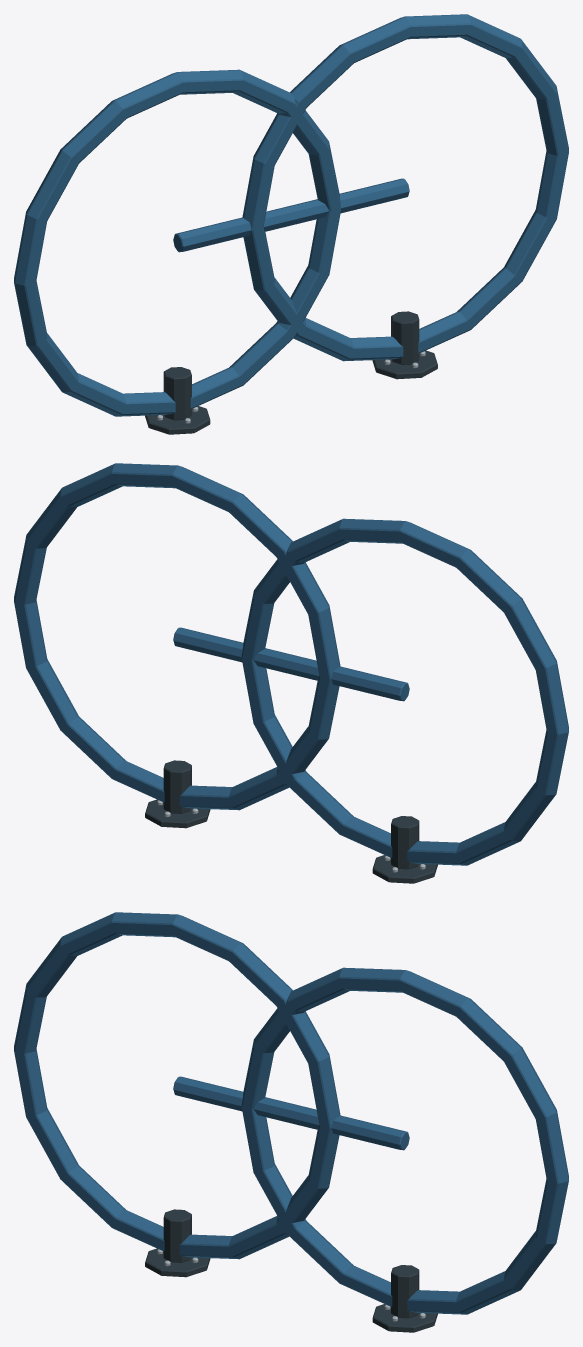
Rendered from b01_double_hoop_bike_rack.glb.
3 renders of one model, top to bottom at view 1: azimuth 30°, elevation 25°; view 2: azimuth 150°, elevation 25°; view 3: azimuth 330°, elevation 25°, orthographic.
Parts seen in each view (by area): view 1: b01_double_hoop_bike_rack; view 2: b01_double_hoop_bike_rack; view 3: b01_double_hoop_bike_rack.
Part boxes in pixels (box(x1,y1,x2,y2)): b01_double_hoop_bike_rack: box(14, 14, 568, 434); b01_double_hoop_bike_rack: box(14, 463, 568, 883); b01_double_hoop_bike_rack: box(14, 912, 568, 1332).
Size of the model in its own units: 1.71 by 1.03 by 0.18.
